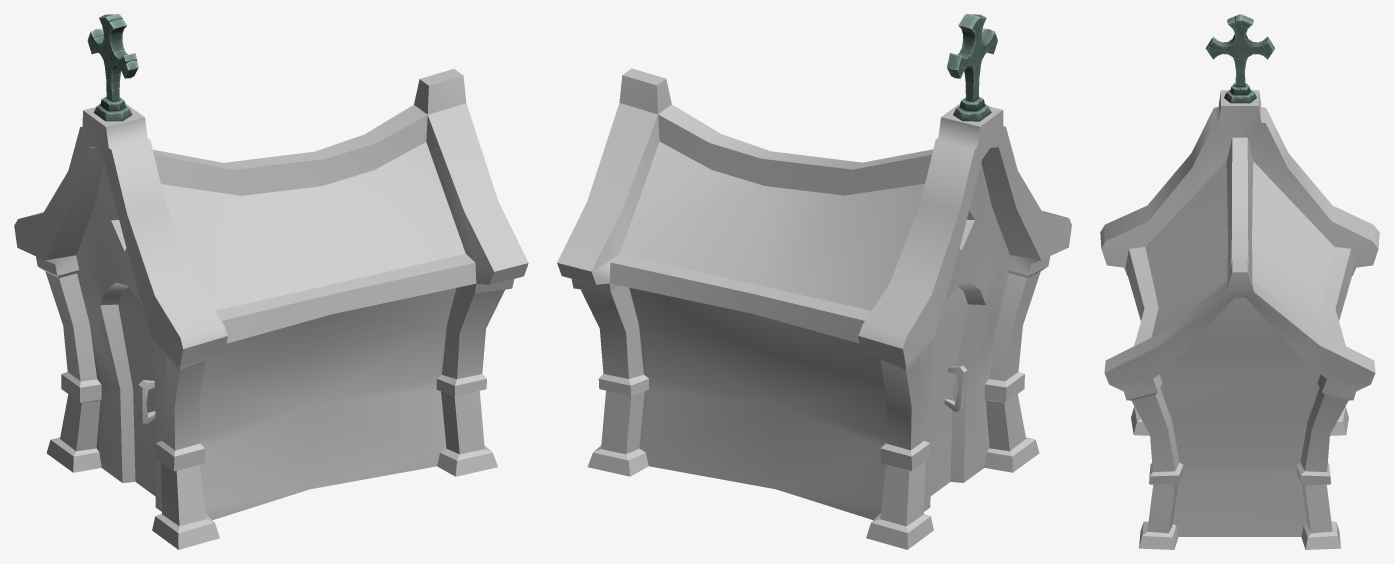
Rendered from cemetery-mausoleum.FBX.
The picture shows the model from 3 angles, left to right: view 1: azimuth 30°, elevation 25°; view 2: azimuth 150°, elevation 25°; view 3: azimuth 270°, elevation 25°; orthographic projection. The views are drawn at different scales.
Parts seen in each view (by area): view 1: mausoleum, cross; view 2: mausoleum, cross; view 3: mausoleum, cross.
Part boxes in pixels (x1,y1,x2,y2): mausoleum: [14, 69, 528, 549]; cross: [87, 14, 138, 121]; mausoleum: [557, 68, 1071, 549]; cross: [947, 14, 997, 121]; mausoleum: [1100, 90, 1379, 549]; cross: [1205, 14, 1275, 103].
Size of the model in its own units: 46.4 by 59.2 by 37.27.
